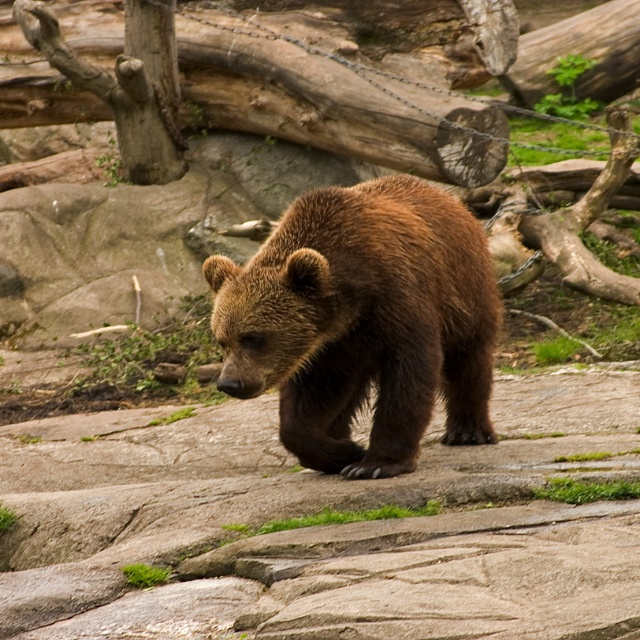Brown bear: (201, 172, 499, 480)
